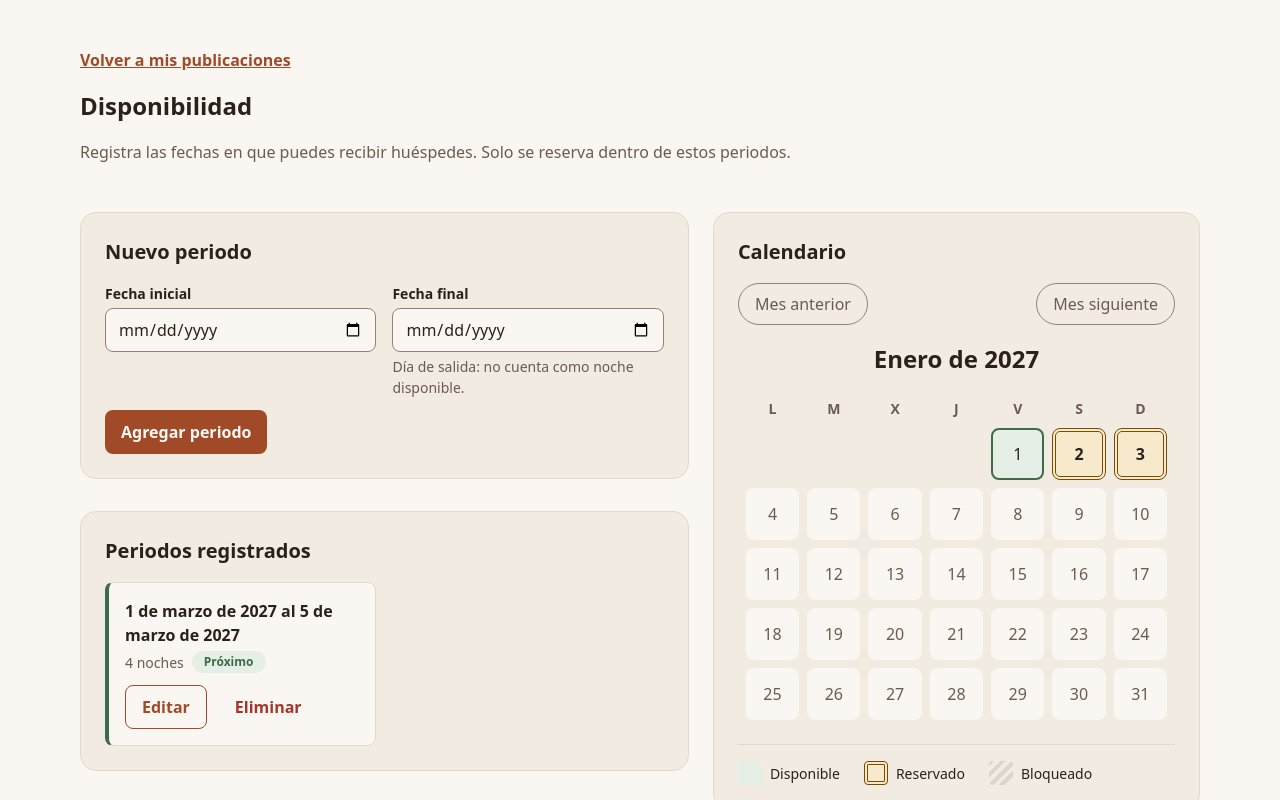
Scenario: DisponibilidadPage › agrega un periodo nuevo en su lugar de la lista
Type "2027-01-10" into the date field labelled "Fecha inicial". click: {"x": 241, "y": 330}
box: [105,308,376,352]
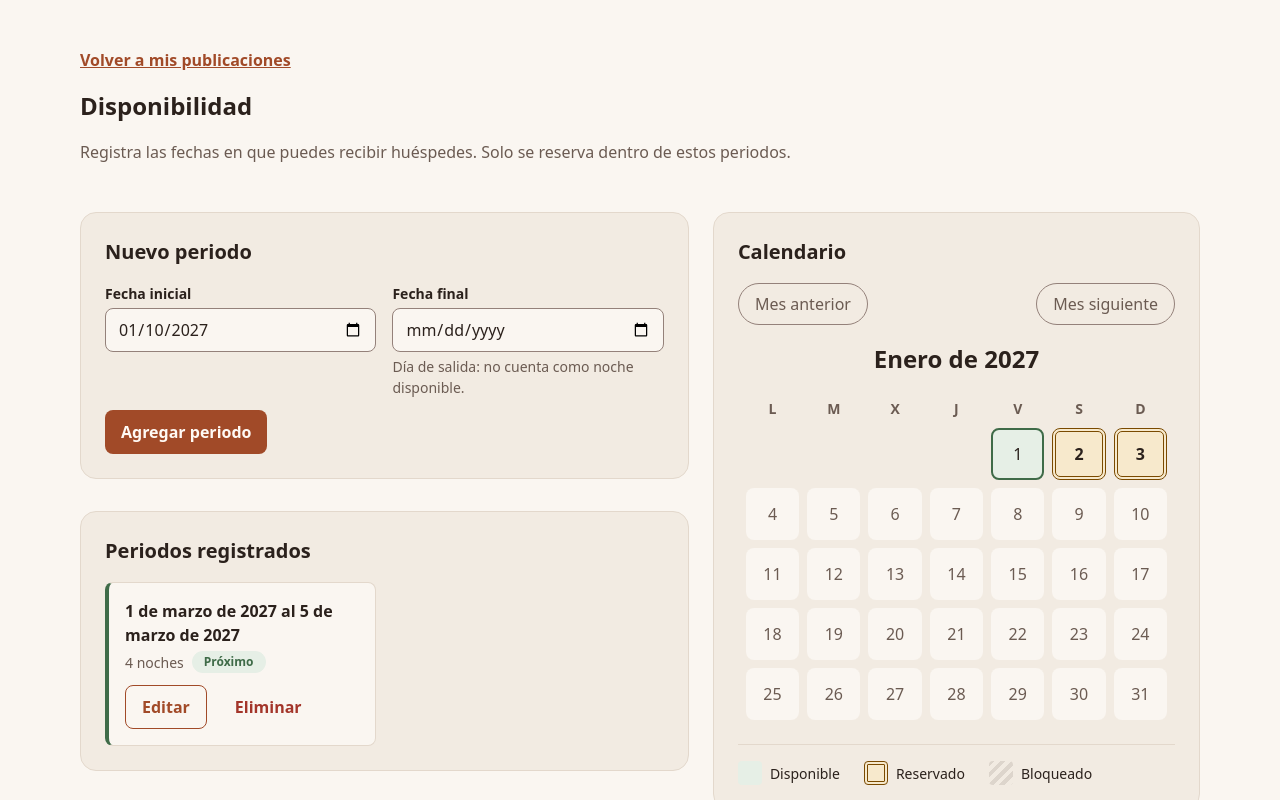
Type "2027-01-15" into the date field labelled "Fecha final". click: {"x": 528, "y": 330}
box: [392,308,664,352]
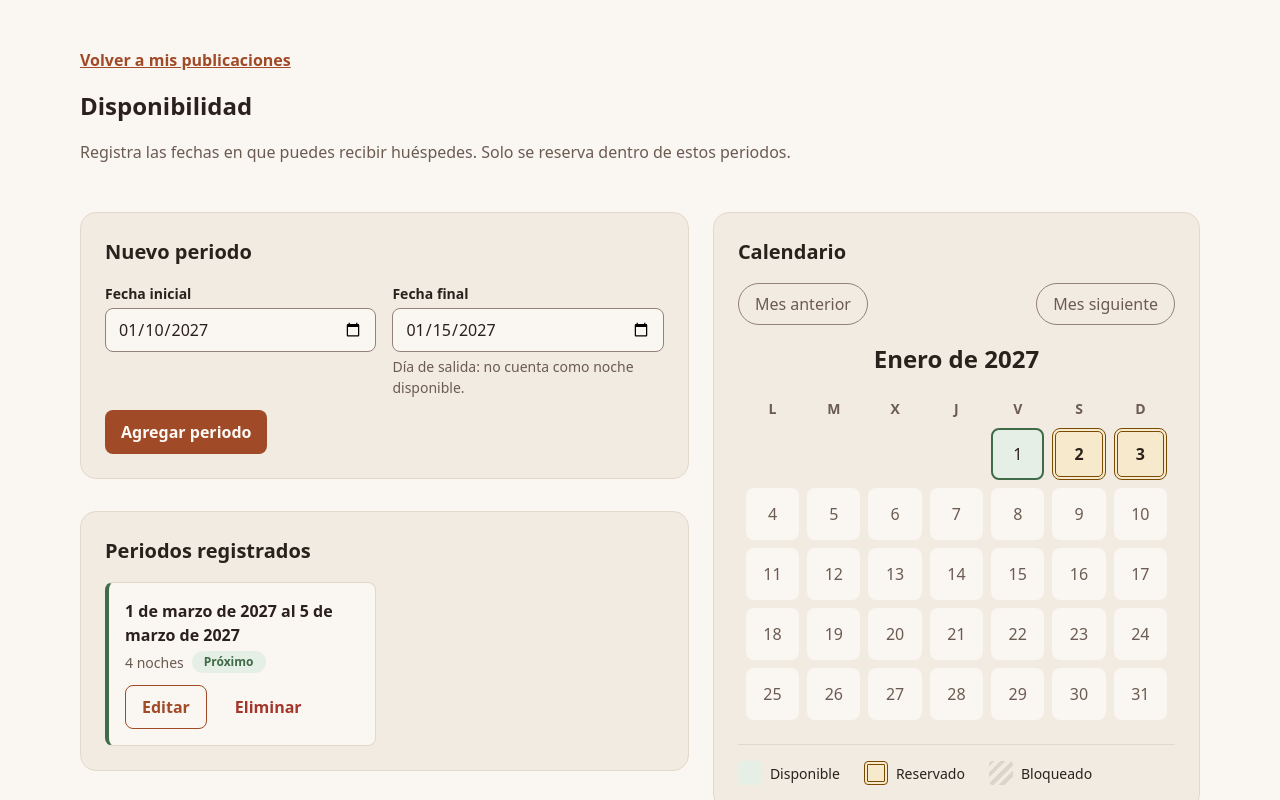
Click the button "Agregar periodo". click: {"x": 186, "y": 432}
box: [105,410,268,454]
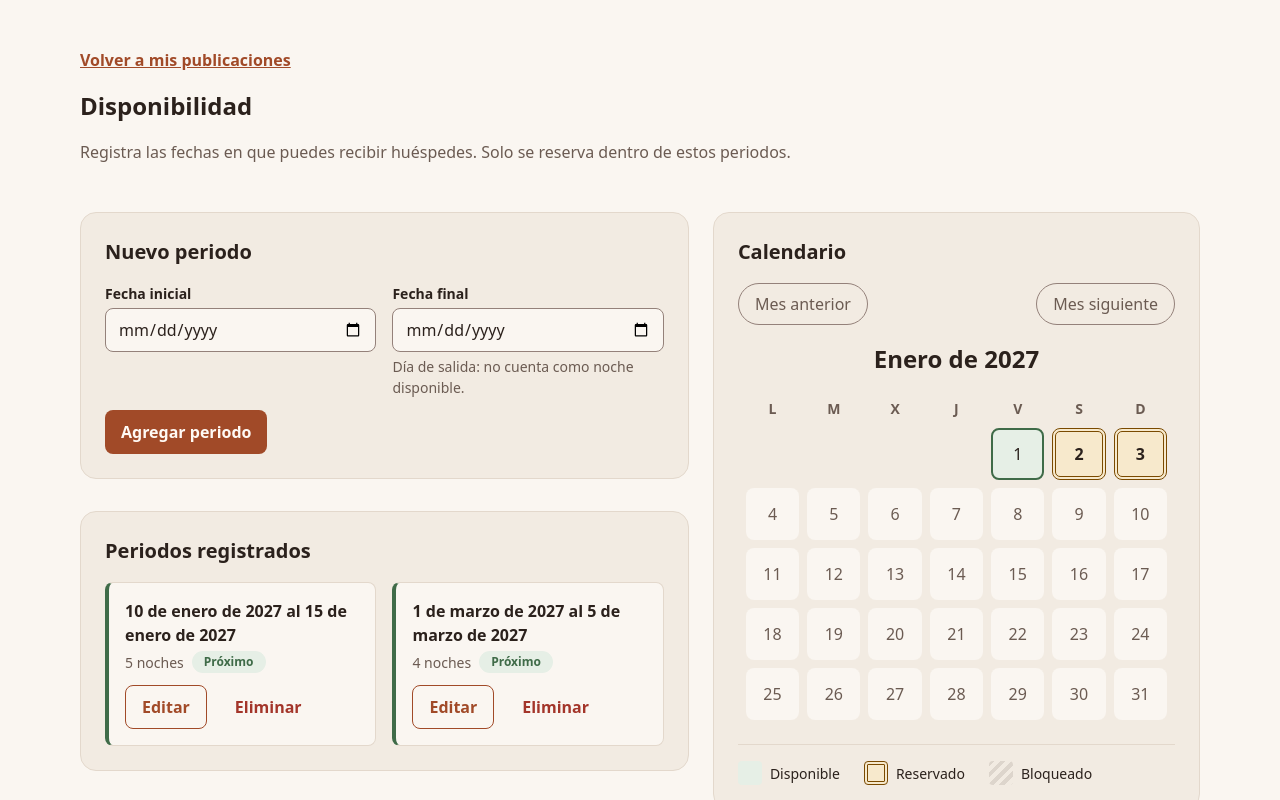
Expected: the list item that starts with "1 de marzo de 2027 al 5 de marzo de 2027" is shown, [412,600,620,646]
Expected: the text "10 de enero de 2027 al 15 de enero de 2027" is shown, [125,599,359,647]
Expected: the 1st list item shows "10 de enero de 2027", [125,600,347,646]
